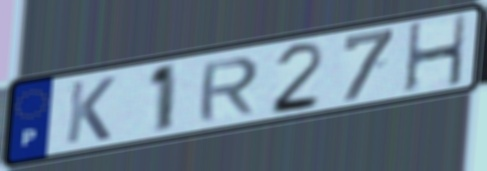1: (146, 61, 181, 136)
2: (269, 40, 326, 116)
7: (340, 26, 398, 104)
H: (402, 12, 469, 95)
K: (63, 74, 118, 147)
R: (195, 54, 263, 124)
